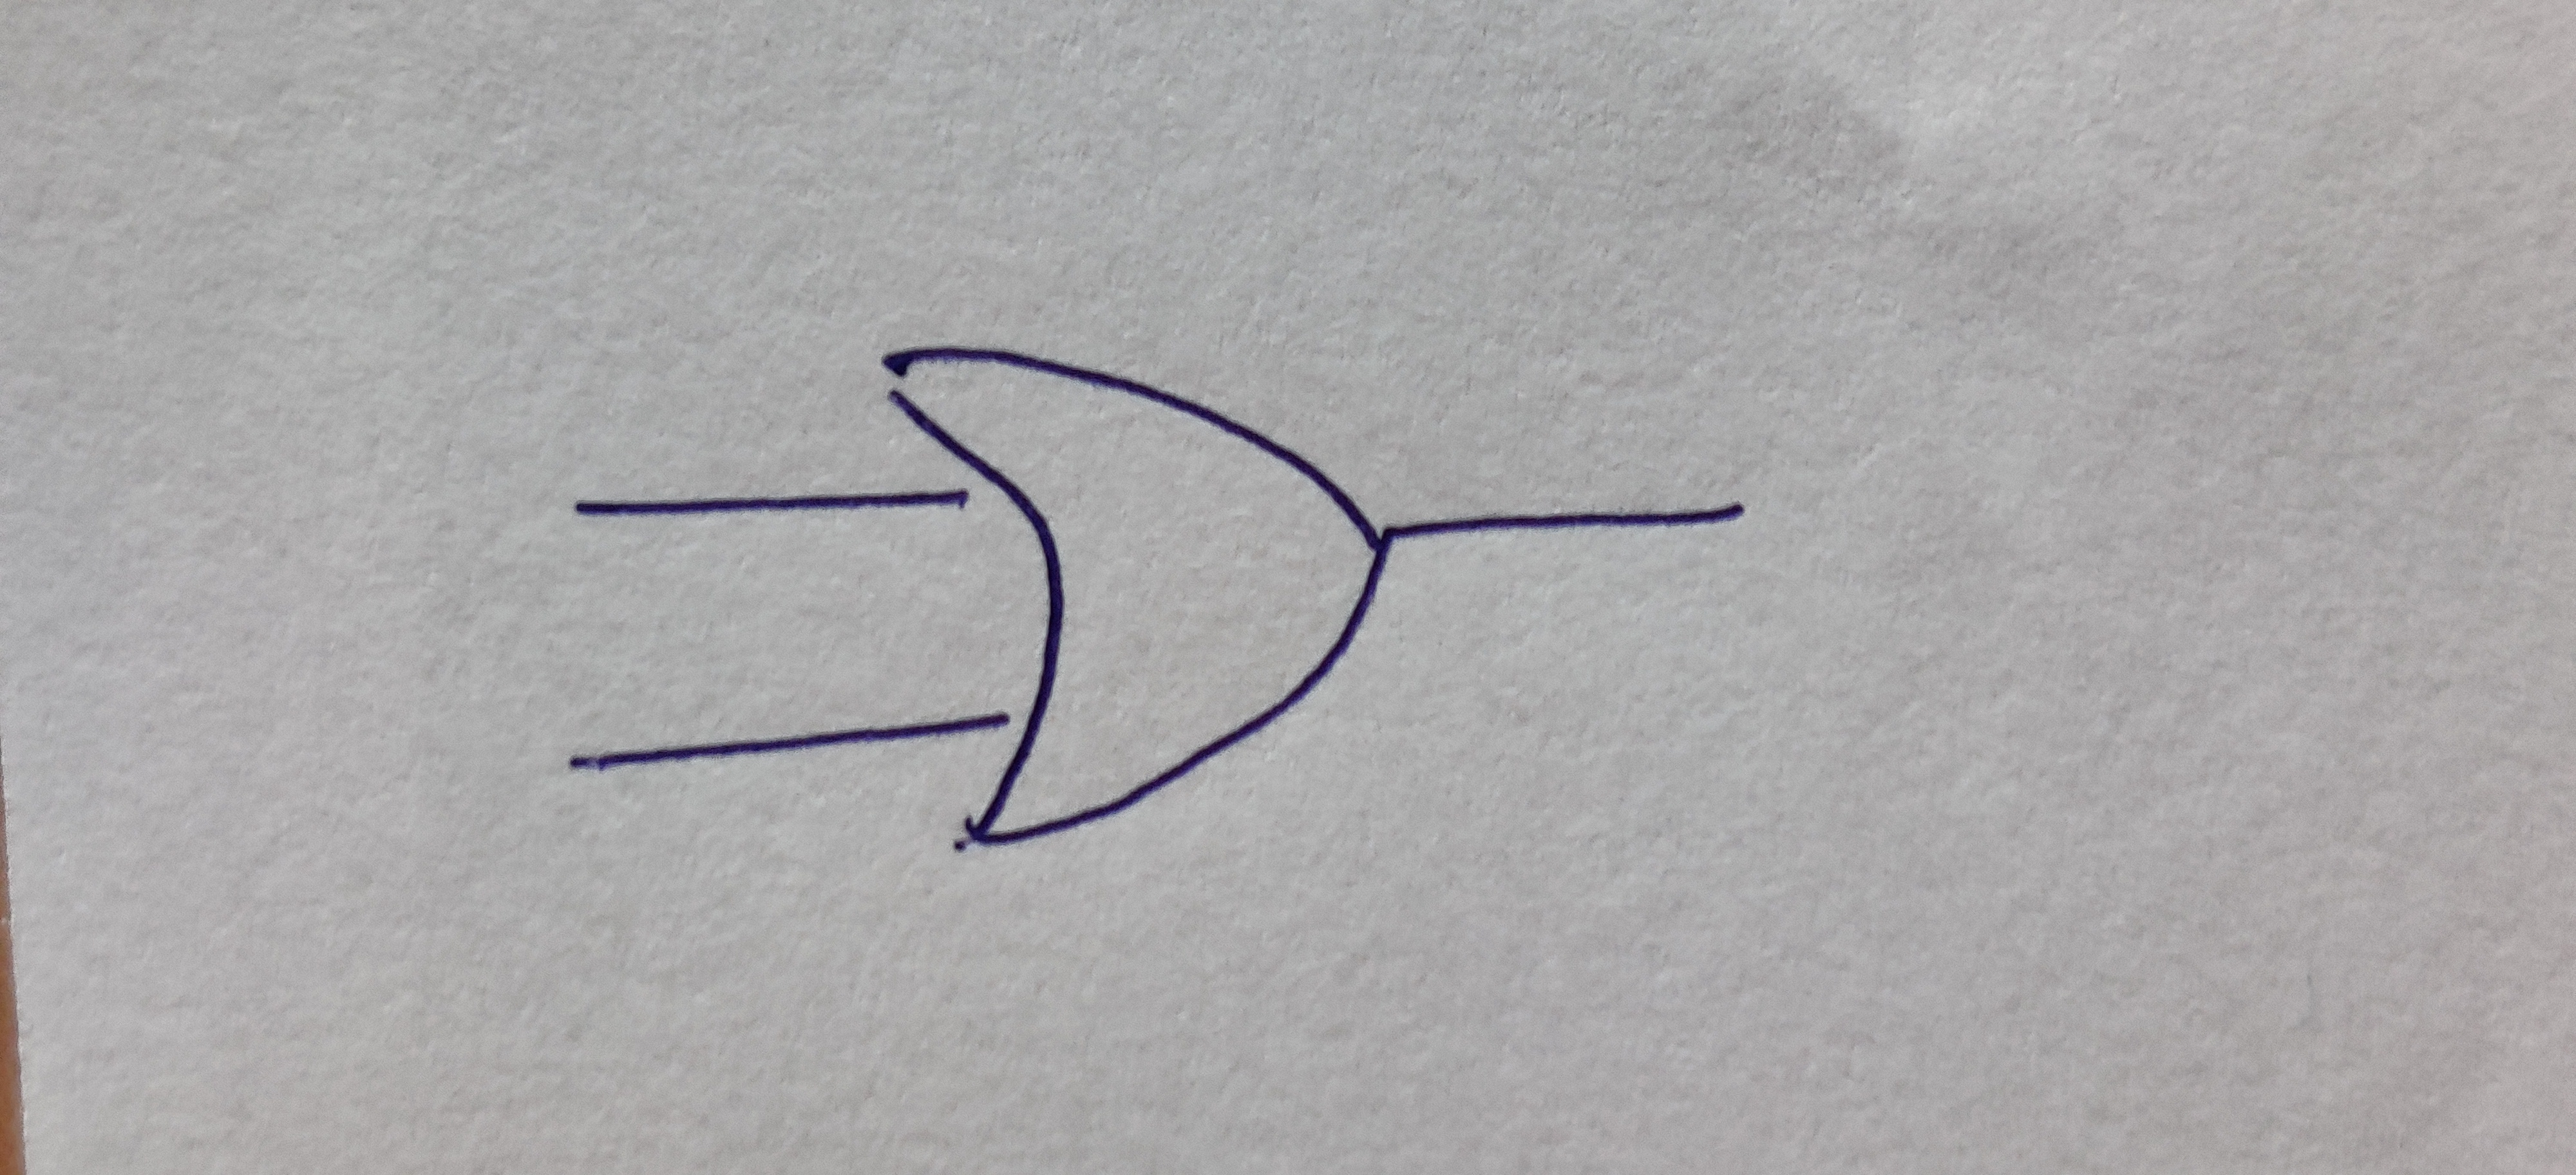or: (890, 343, 1383, 846)
